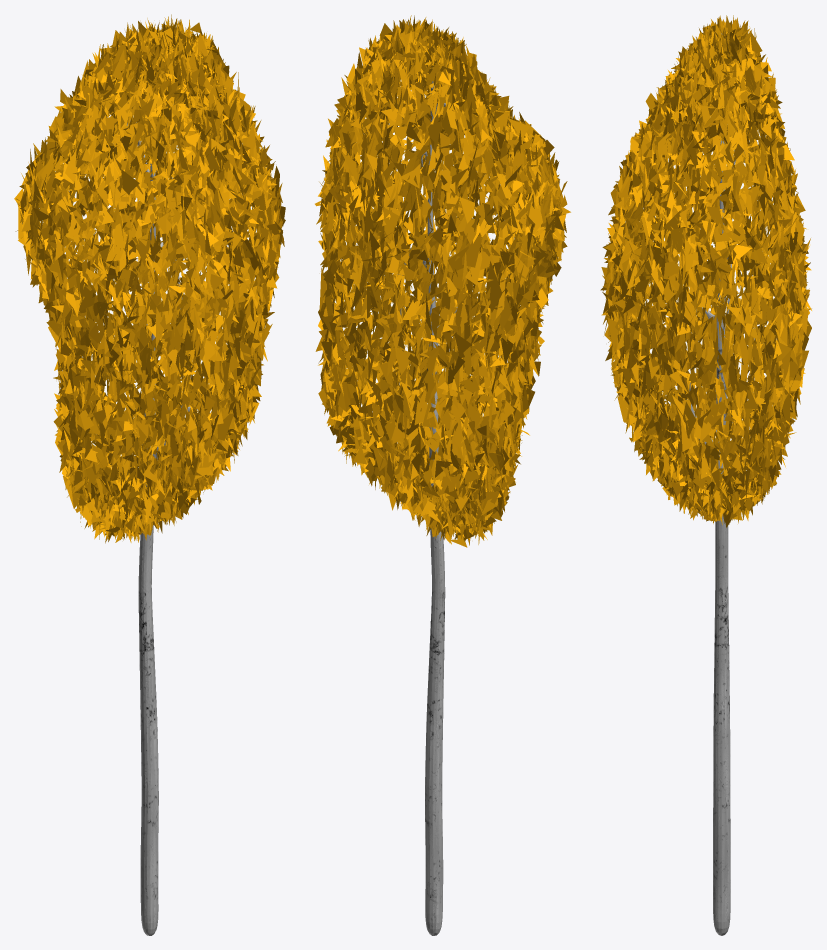
The model's file is Leaves13.fbx.
3 renders of one model, left to right at view 1: azimuth 30°, elevation 25°; view 2: azimuth 150°, elevation 25°; view 3: azimuth 270°, elevation 25°, orthographic.
Visible parts, largest first — view 1: Leaves13; view 2: Leaves13; view 3: Leaves13.
Boxes of the visible parts, x1,y1,x2,y2 form: Leaves13: (14, 14, 285, 935); Leaves13: (315, 15, 570, 935); Leaves13: (600, 15, 811, 935).
Size of the model in its own units: 739 by 2626 by 550.
Materials: 2 (1 with a texture image).
